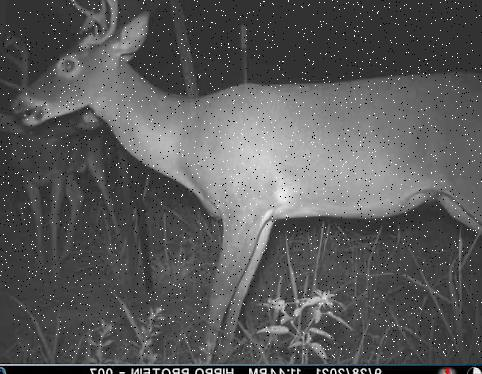Deer: (10, 0, 482, 359), (0, 24, 133, 289)
